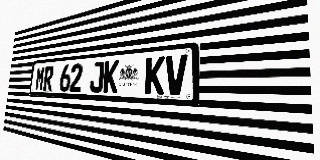2: (70, 63, 83, 92)
6: (59, 64, 72, 91)
J: (89, 61, 104, 93)
K: (144, 56, 165, 95), (103, 60, 119, 93)
M: (35, 66, 45, 91)
R: (43, 66, 54, 91)
V: (165, 54, 188, 95)
